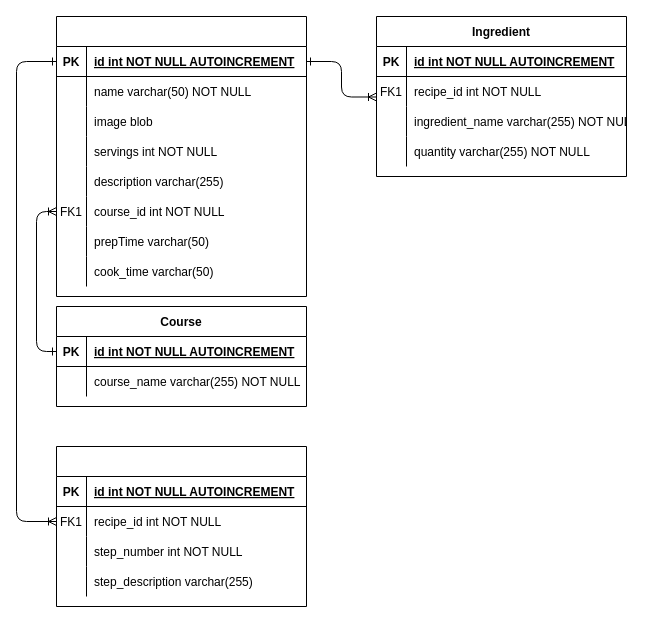
This 654x623 diagram has some shape labels left out. Here are the shapes that lost their labels. From the top down, the box of each, then its label:
(56, 16, 306, 296): Recipe
(56, 446, 306, 606): Recipe Step
